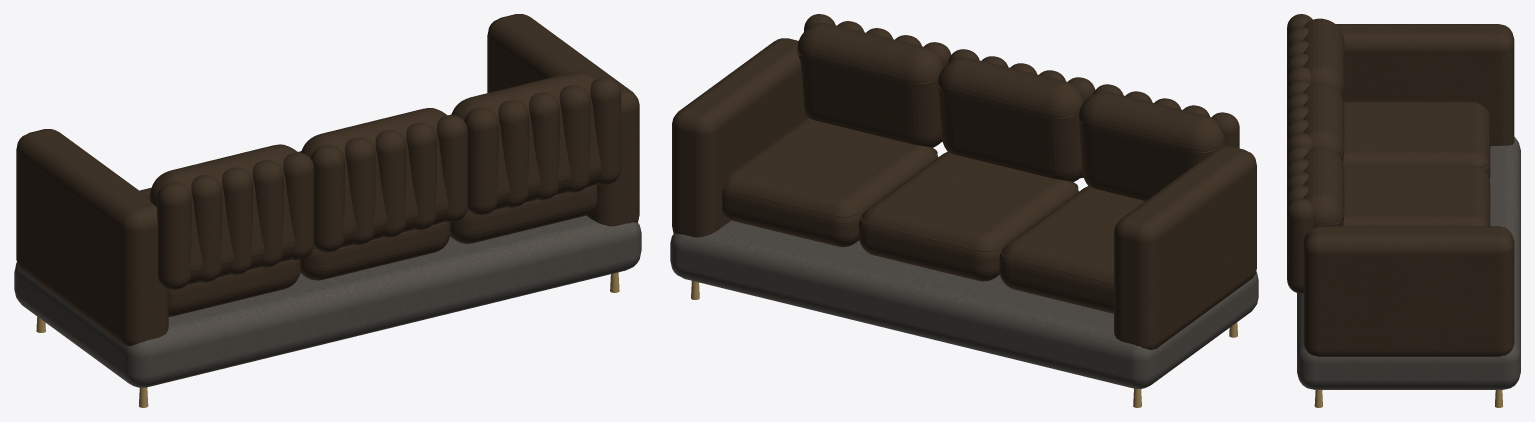
File: luxury-tuxedo-sofa.glb
3 renders of one model, left to right at view 1: azimuth 30°, elevation 25°; view 2: azimuth 150°, elevation 25°; view 3: azimuth 270°, elevation 25°, orthographic. The views are drawn at different scales.
Visible parts, largest first — view 1: leather_0, fabric_0; view 2: leather_0, fabric_0; view 3: leather_0, fabric_0, bronze_1.
Boxes of the visible parts, x1,y1,x2,y2 form: leather_0: (16, 14, 639, 345); fabric_0: (14, 215, 641, 387); leather_0: (672, 14, 1256, 349); fabric_0: (670, 220, 1258, 388); leather_0: (1287, 14, 1514, 356); fabric_0: (1297, 137, 1520, 389); bronze_1: (1314, 390, 1502, 407).
Bounding box in the file's own units: 2.39 × 0.9944 × 1.06.
Materials: 3 (2 with a texture image).
